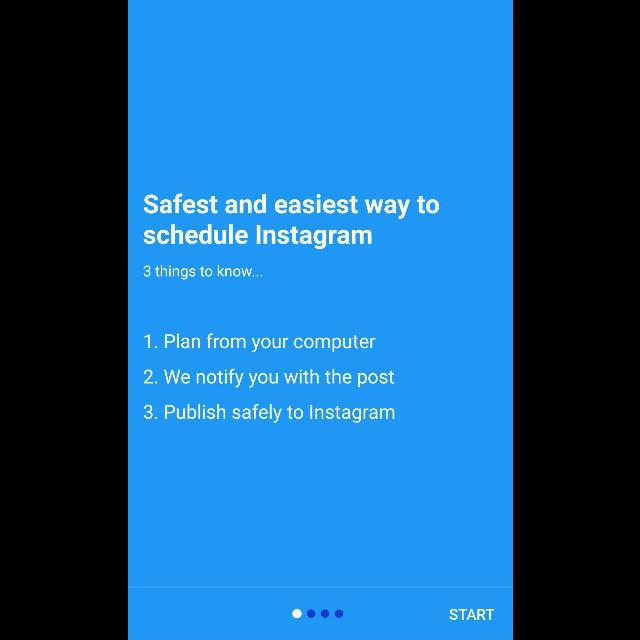pageindicator: (291, 608, 343, 620)
text: (143, 193, 440, 250), (142, 369, 394, 389), (143, 404, 394, 424), (144, 333, 376, 353), (142, 264, 262, 280), (448, 608, 494, 620)
